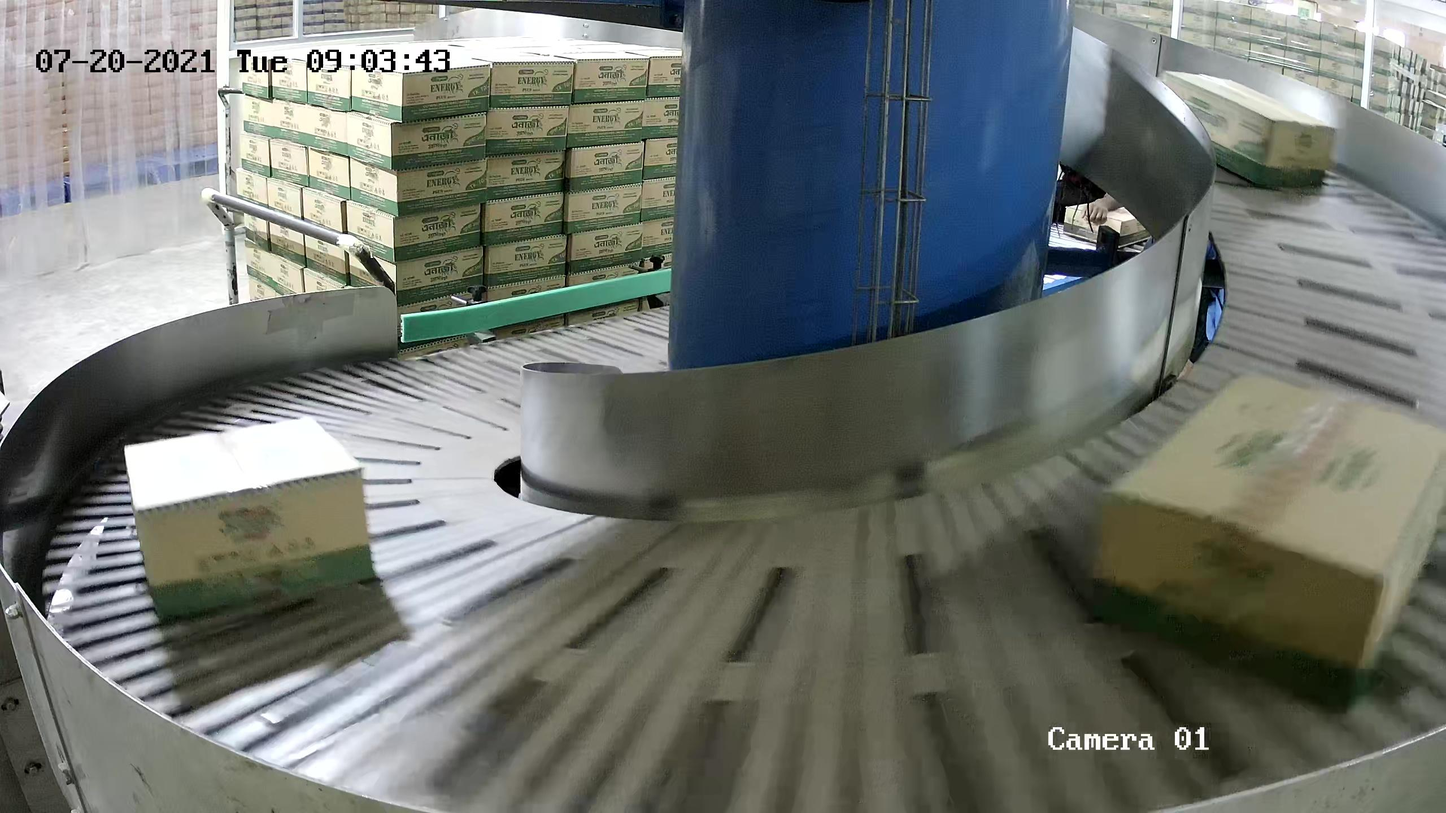Box: (1092, 369, 1446, 719), (121, 412, 378, 624), (1160, 68, 1338, 190)
